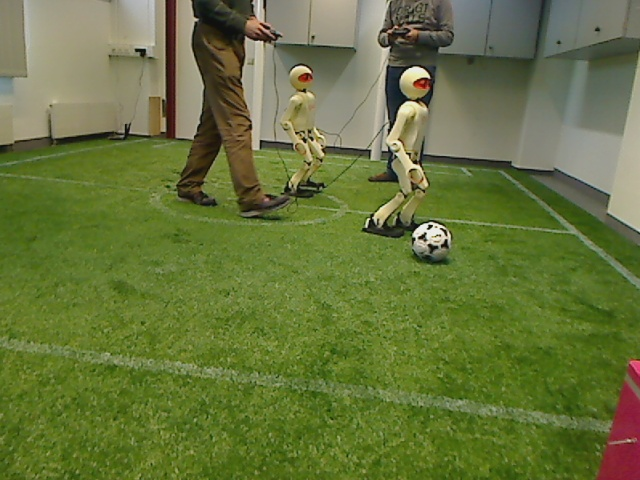ball: (408, 220, 455, 264)
robot: (367, 67, 432, 234), (284, 65, 329, 200)
